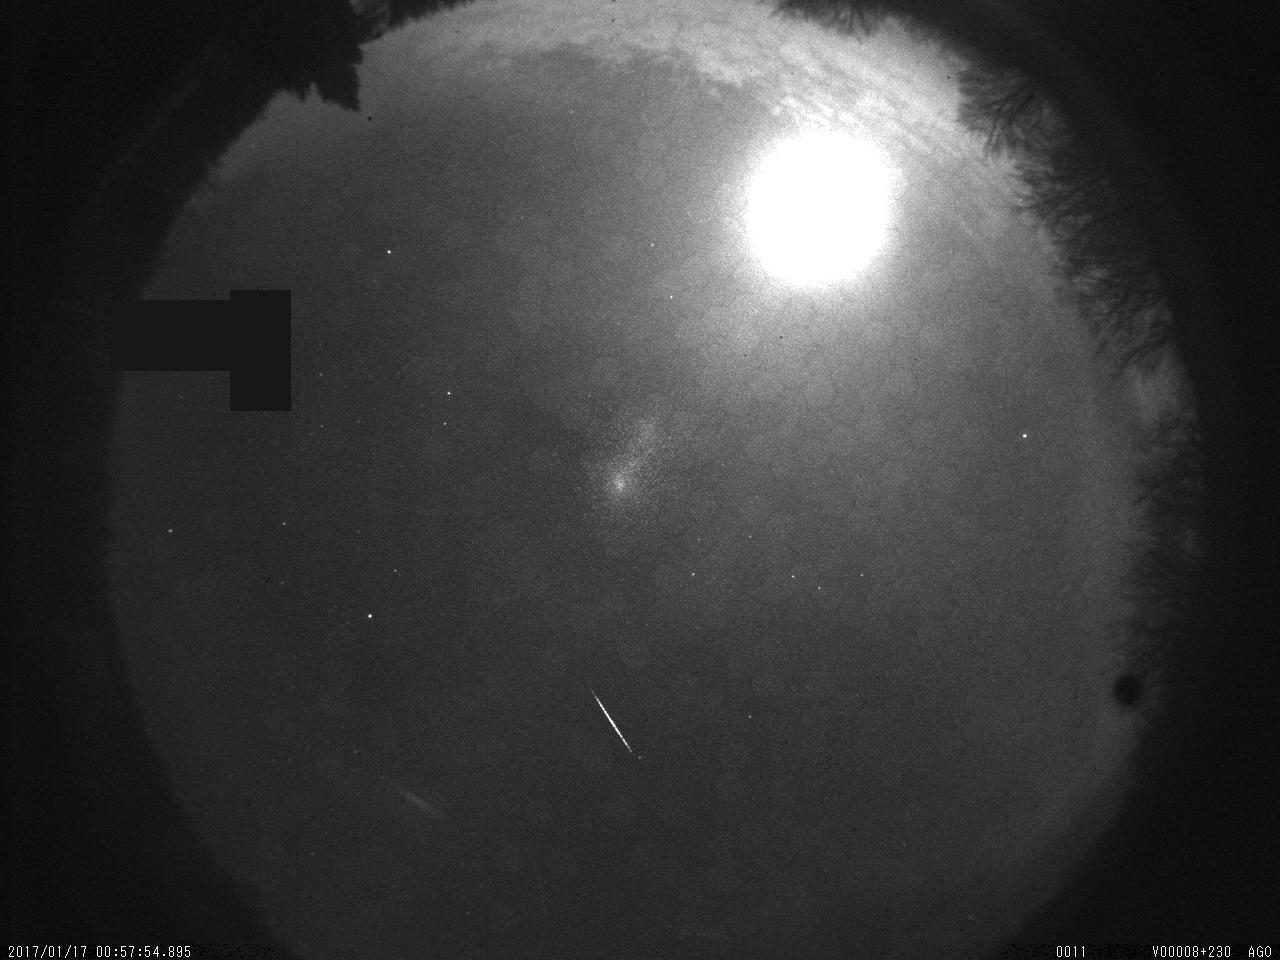meteor: (586, 678, 650, 751)
